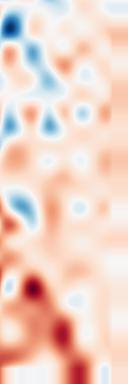filament: (17, 272, 96, 383)
